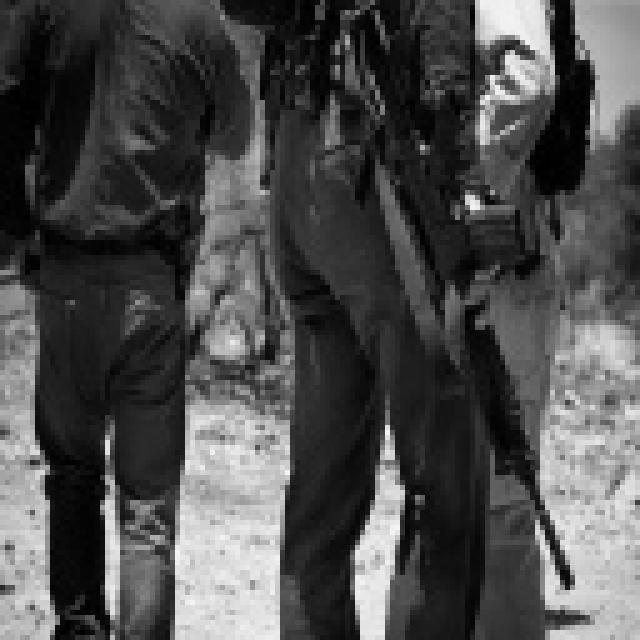Rifle: (344, 0, 640, 640)
